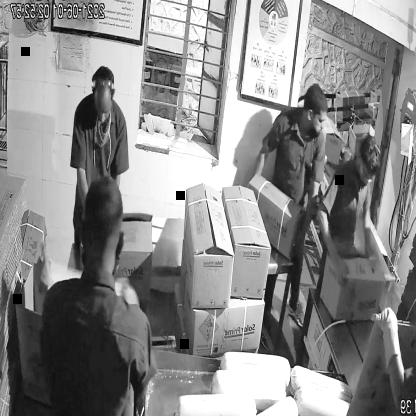goggles: (355, 160, 381, 186)
